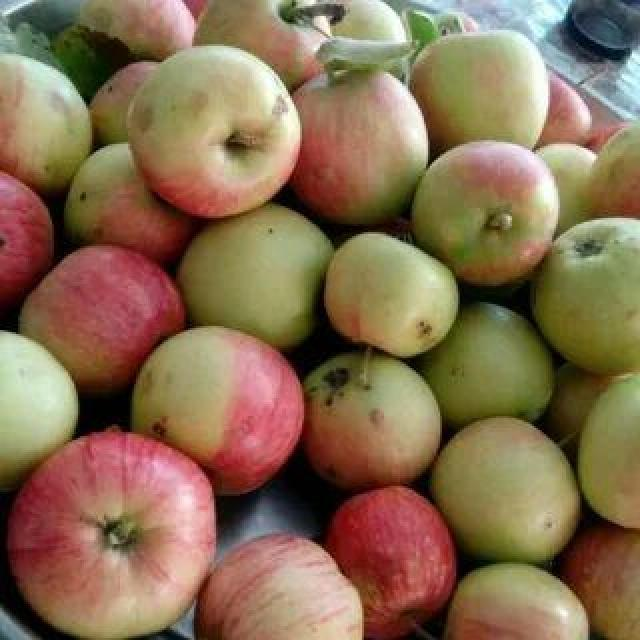Fresh Apple: (3, 433, 218, 640), (127, 315, 303, 478), (137, 55, 283, 210), (432, 417, 573, 568), (176, 208, 332, 344), (15, 254, 178, 384), (274, 74, 418, 218), (412, 140, 556, 282), (318, 490, 462, 632), (308, 232, 457, 360), (396, 40, 552, 157), (523, 216, 640, 368), (202, 530, 352, 640), (452, 555, 596, 640), (568, 376, 640, 538)
